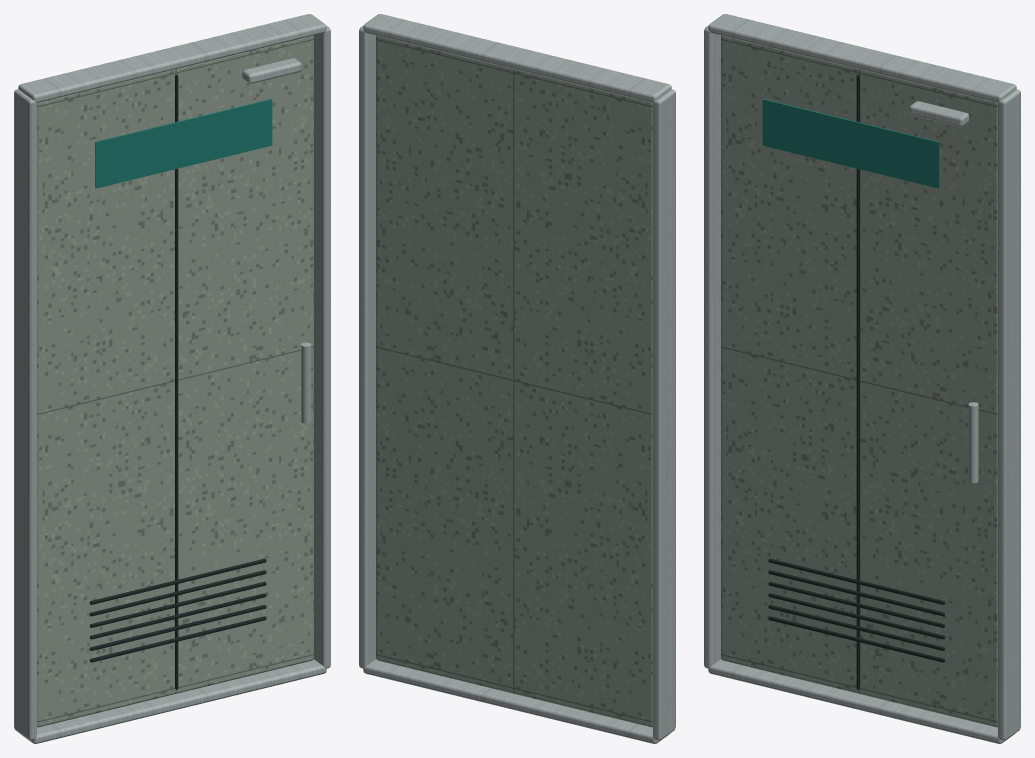
The model's file is detail-equipment-door-1.glb.
3 renders of one model, left to right at view 1: azimuth 30°, elevation 25°; view 2: azimuth 150°, elevation 25°; view 3: azimuth 330°, elevation 25°, orthographic.
Visible parts, largest first — view 1: door_panel, frame_side (×2), frame_rail (×2), label_room_sign, vent_slot (×6), door_seam, closer, pull_handle; view 2: door_panel, frame_side (×2), frame_rail (×2); view 3: door_panel, frame_side (×2), frame_rail (×2), label_room_sign, vent_slot (×6), door_seam, closer, pull_handle.
Part boxes in pixels (<box>): door_panel: <box>37,35,313,727</box>; frame_side (×2): <box>14,25,330,740</box>; frame_rail (×2): <box>18,14,326,743</box>; label_room_sign: <box>95,99,272,188</box>; vent_slot (×6): <box>89,558,266,662</box>; door_seam: <box>175,74,178,689</box>; closer: <box>242,58,301,83</box>; pull_handle: <box>301,342,311,423</box>; door_panel: <box>376,35,652,727</box>; frame_side (×2): <box>359,25,675,740</box>; frame_rail (×2): <box>363,14,671,743</box>; door_panel: <box>721,35,997,727</box>; frame_side (×2): <box>704,25,1020,740</box>; frame_rail (×2): <box>708,14,1016,743</box>; label_room_sign: <box>762,99,939,188</box>; vent_slot (×6): <box>768,558,945,662</box>; door_seam: <box>856,74,859,689</box>; closer: <box>909,101,969,126</box>; pull_handle: <box>968,402,978,483</box>.
Bounding box in the file's own units: 1.24 × 2.54 × 0.17.
Materials: 4 (4 with a texture image).
